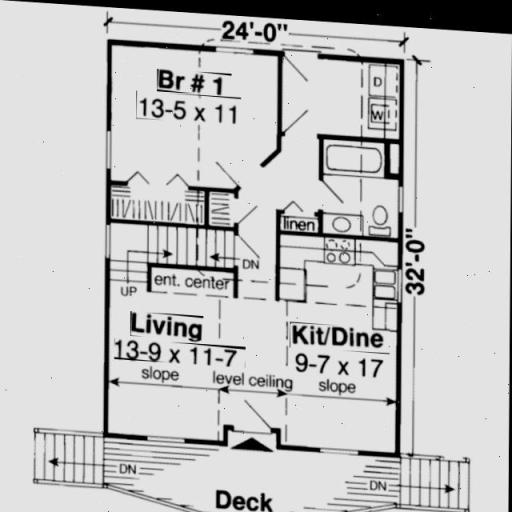Room: (290, 56, 408, 232)
bedroom: (113, 42, 277, 206)
hall: (118, 226, 273, 415)
kitchen: (283, 243, 396, 462)
